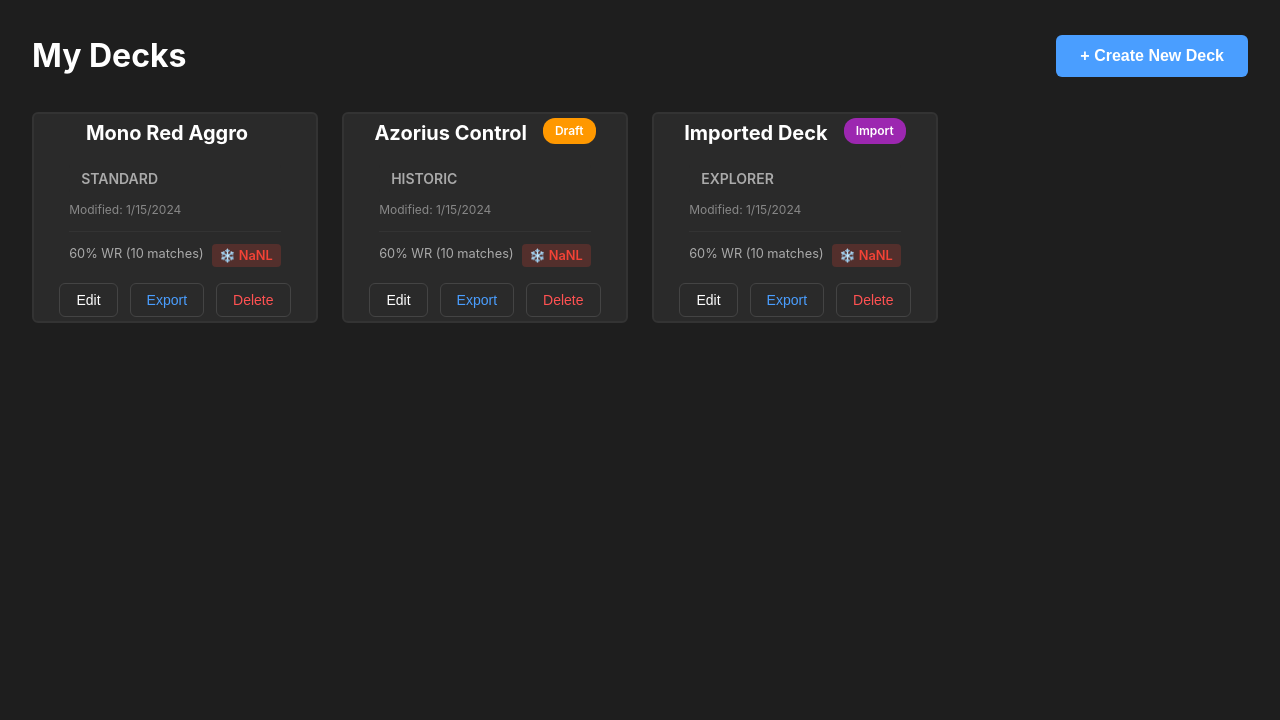
it: Decks › Create Deck Dialog › should open create dialog when clicking create button
Click the button "+ Create New Deck": {"x": 1152, "y": 56} [1056,35,1248,77]
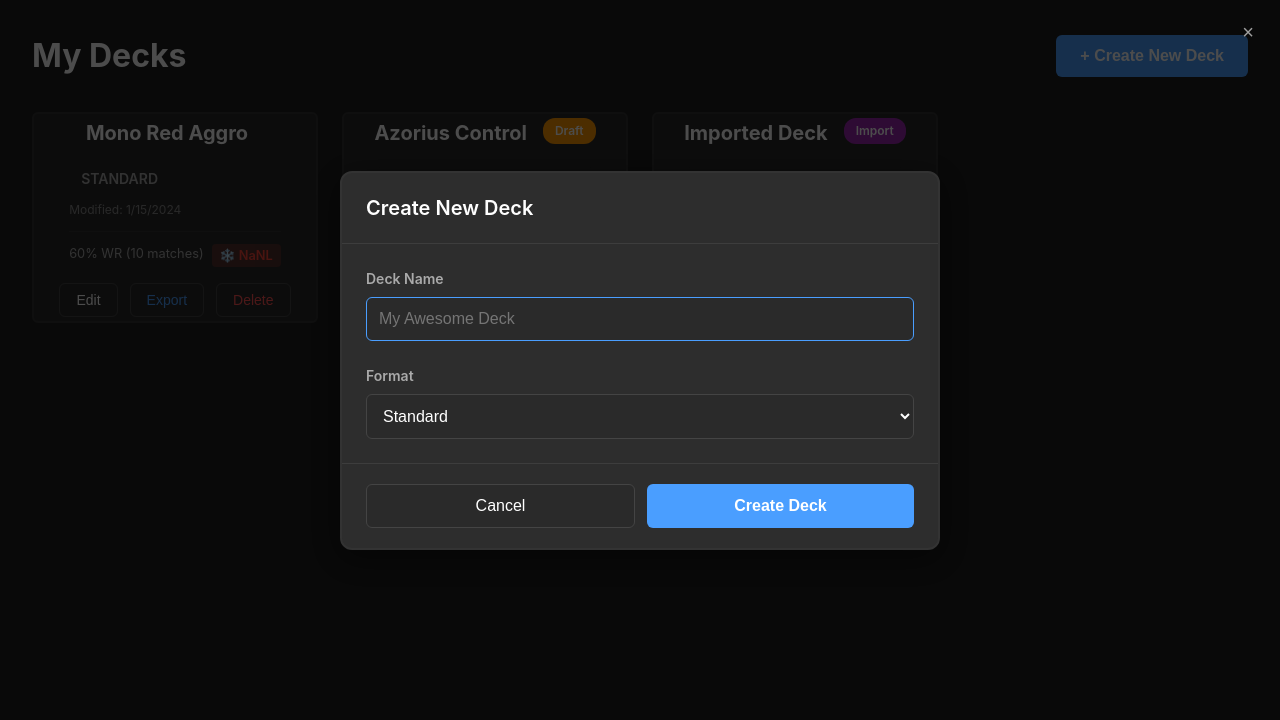
Result: the heading "Create New Deck" is shown at [366,192,533,222]
Result: the field labelled "Deck Name" is shown at [366,296,914,340]
Result: the dropdown labelled "Format" is shown at [366,394,914,438]
